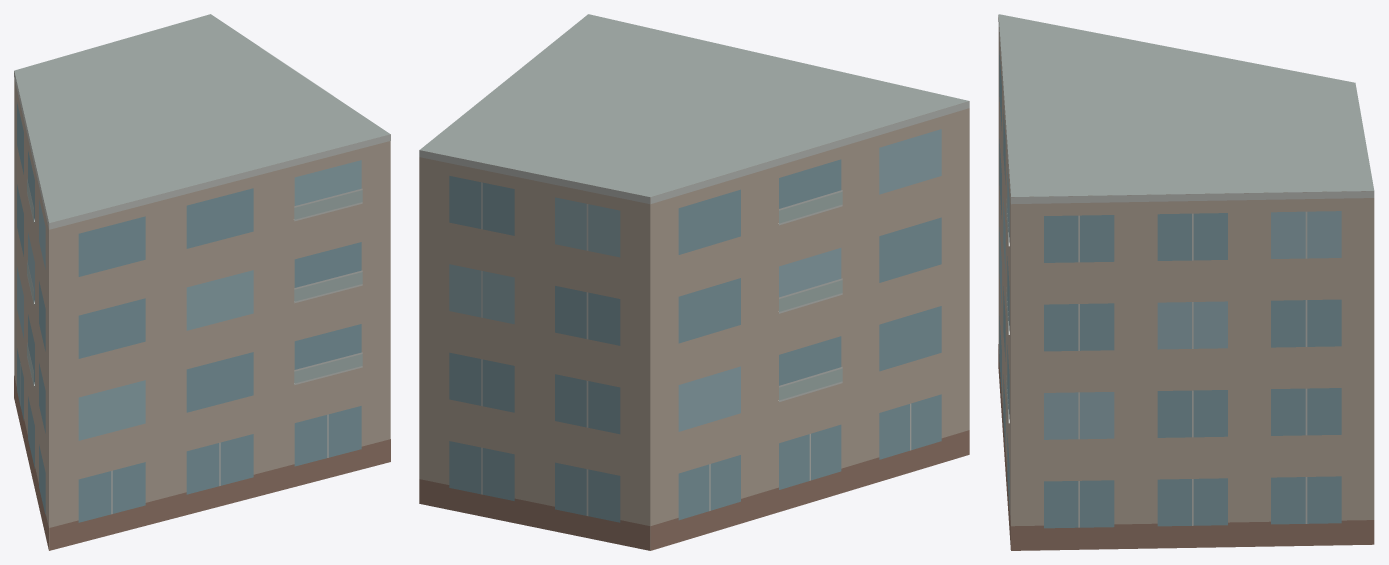
File: residential-e3ce8943-df37-4772-a7dc-8dfb848ab142.glb
The picture shows the model from 3 angles, left to right: view 1: azimuth 30°, elevation 25°; view 2: azimuth 150°, elevation 25°; view 3: azimuth 270°, elevation 25°; orthographic projection. The views are drawn at different scales.
Parts seen in each view (by area): view 1: residential-e3ce8943-df37-4772-a7dc-8dfb848ab142.tmp; view 2: residential-e3ce8943-df37-4772-a7dc-8dfb848ab142.tmp; view 3: residential-e3ce8943-df37-4772-a7dc-8dfb848ab142.tmp.
Part boxes in pixels (<box>): residential-e3ce8943-df37-4772-a7dc-8dfb848ab142.tmp: <box>14,14,390,550</box>; residential-e3ce8943-df37-4772-a7dc-8dfb848ab142.tmp: <box>419,14,969,550</box>; residential-e3ce8943-df37-4772-a7dc-8dfb848ab142.tmp: <box>998,14,1374,550</box>.
Bounding box in the file's own units: 13.55 × 12.2 × 11.76.
